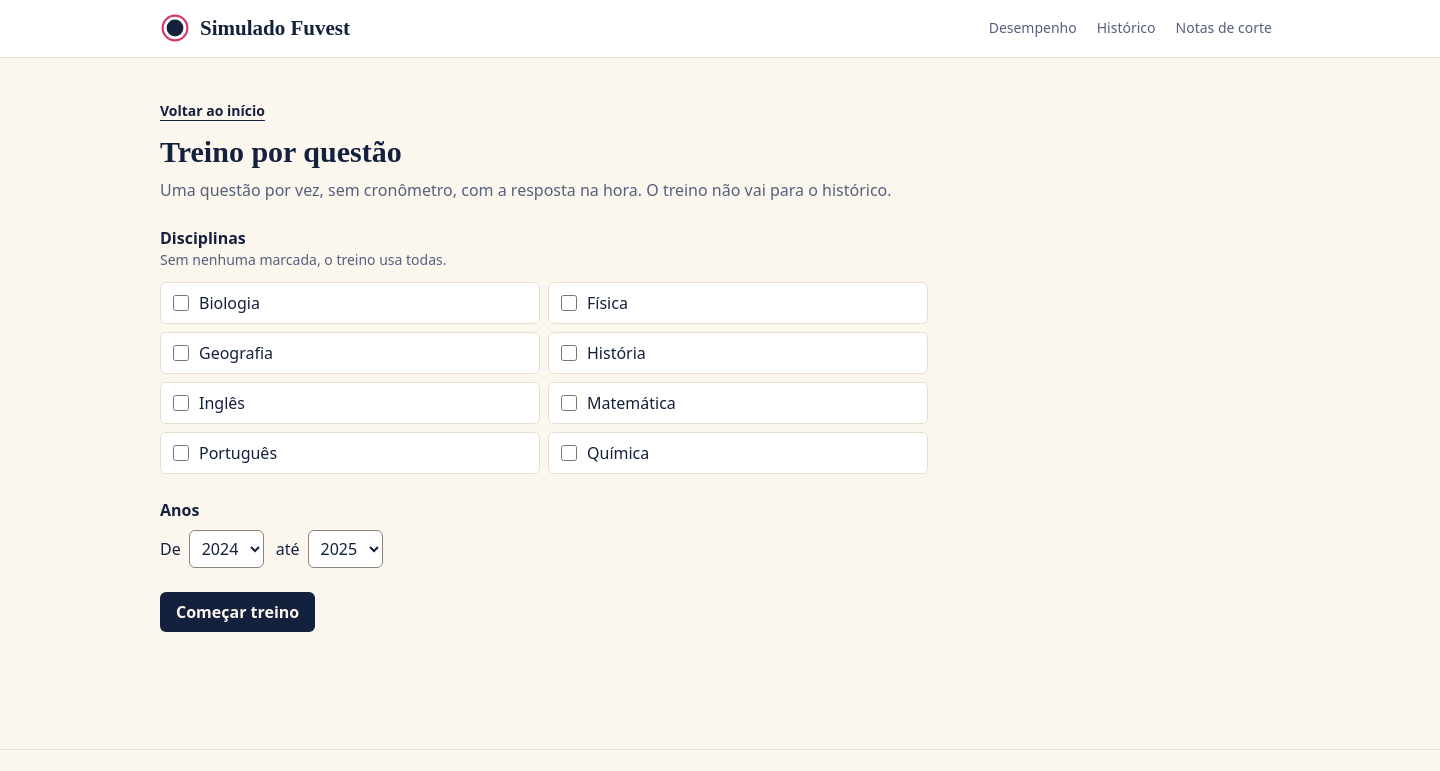
Treino por questão (RF-012) › não grava nada no navegador
The width and height of the screenshot is (1440, 771).
Click the button "Começar treino": click(238, 612) [160, 592, 315, 632]
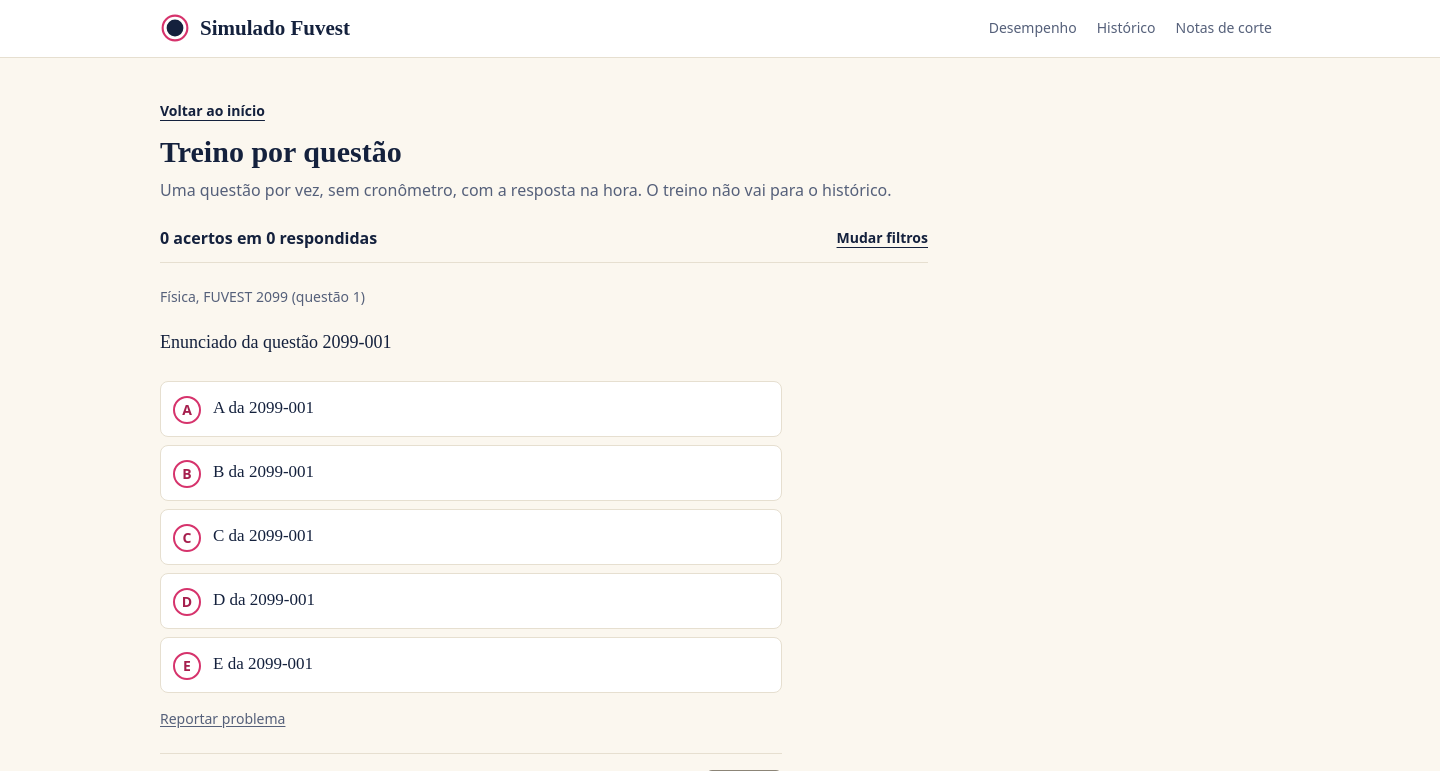
expect the text "Enunciado da questão 2099-001" is shown: met, box [160, 332, 392, 352]
Click the radio button with aria-label "Alternativa C": click(264, 536) [160, 509, 782, 565]
(page scrolled)
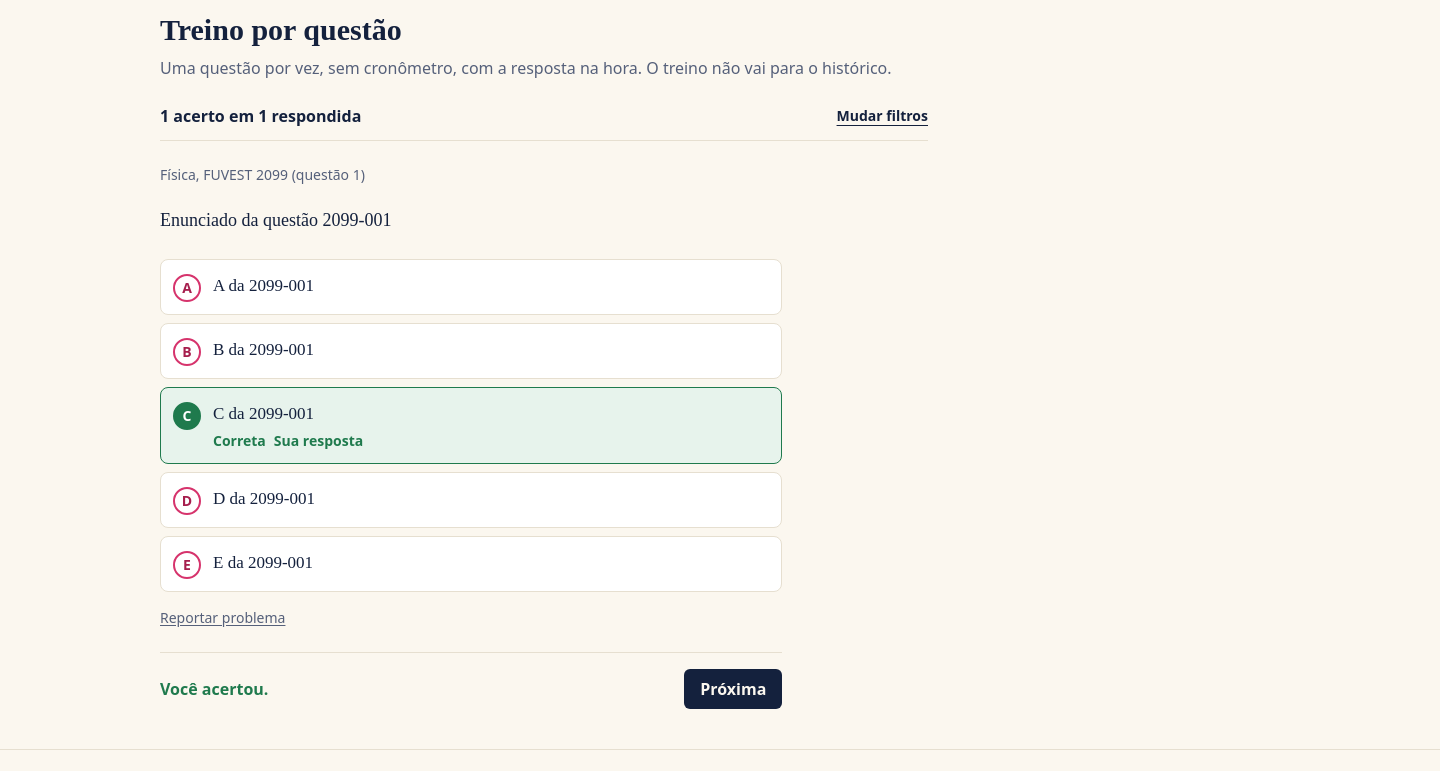
expect the text "Você acertou." is shown: met, box [160, 677, 268, 701]
